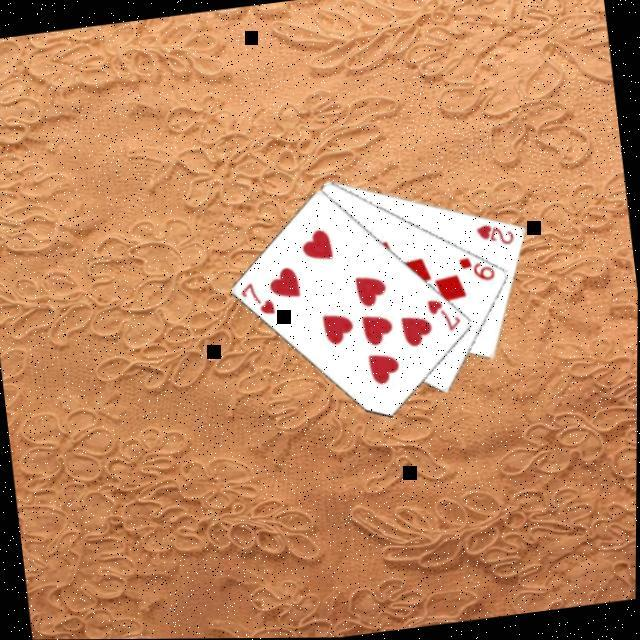2H: (471, 219, 517, 252)
7H: (422, 294, 465, 338), (236, 278, 278, 322)
9D: (454, 251, 498, 288)
